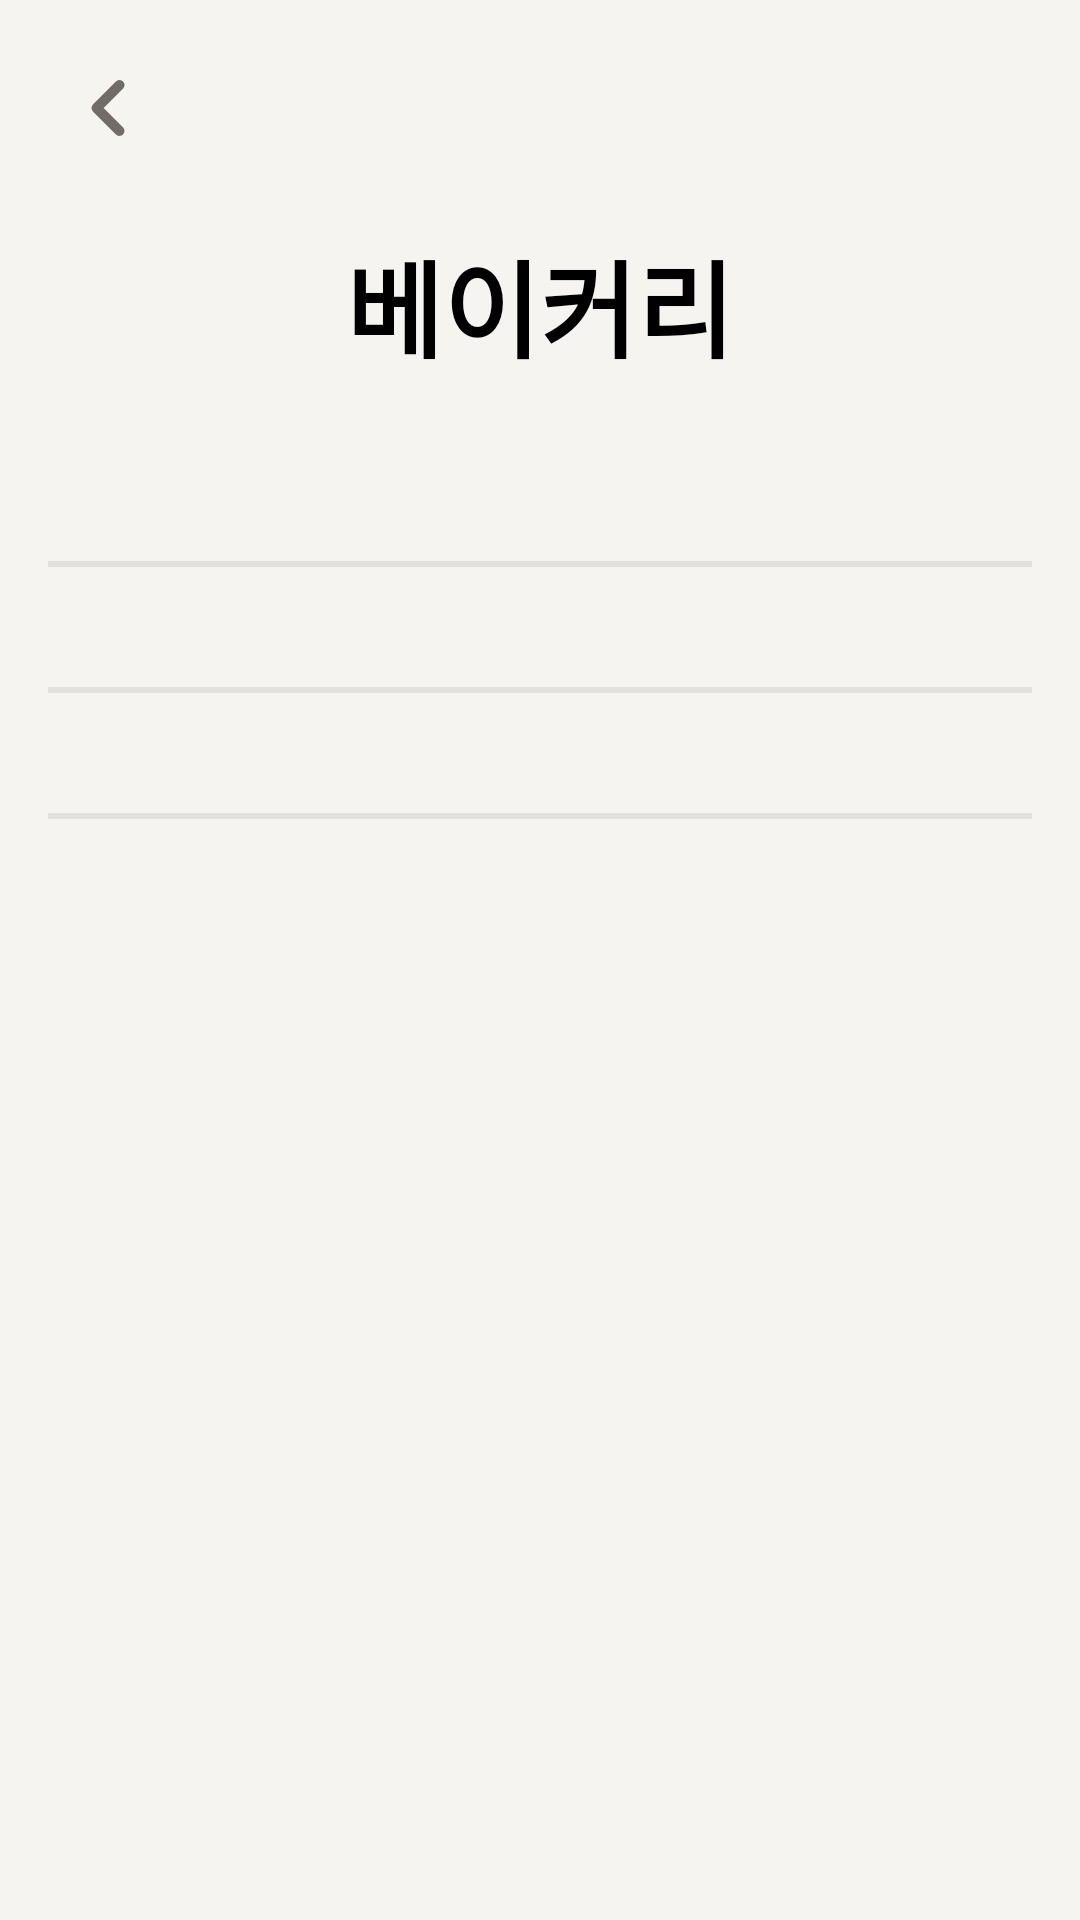

Icons on this 1080x1920 Android screen, each with the point to tap as [x,y]:
back arrow: [108,108]
